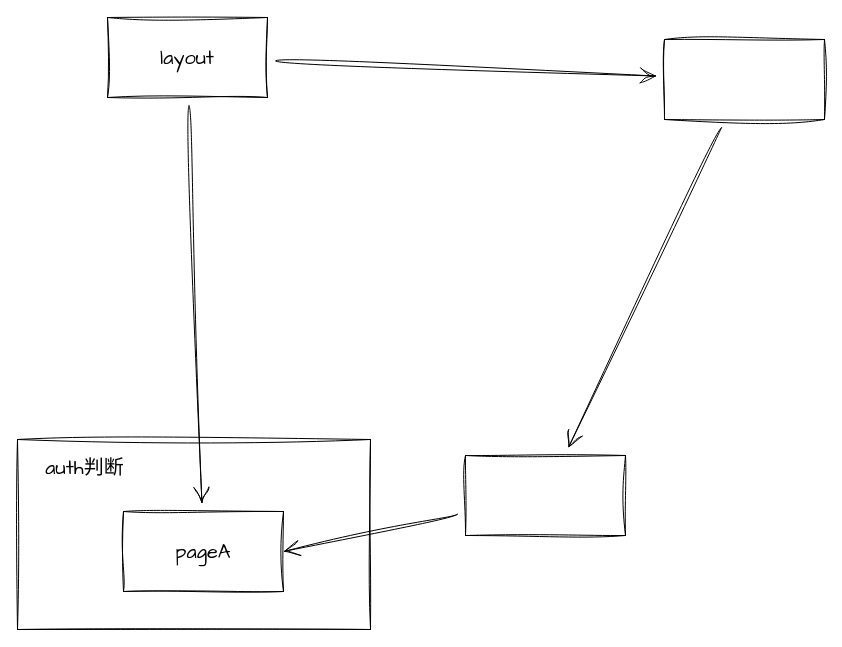
The diagram is 842 pixels wide and 647 high, and some of its shapes have lost their labels. Here are the shapes that lost their labels. From the top down, the centre of each, then its label:
At pixel 744 79: "login".
At pixel 545 495: "登录成功".
